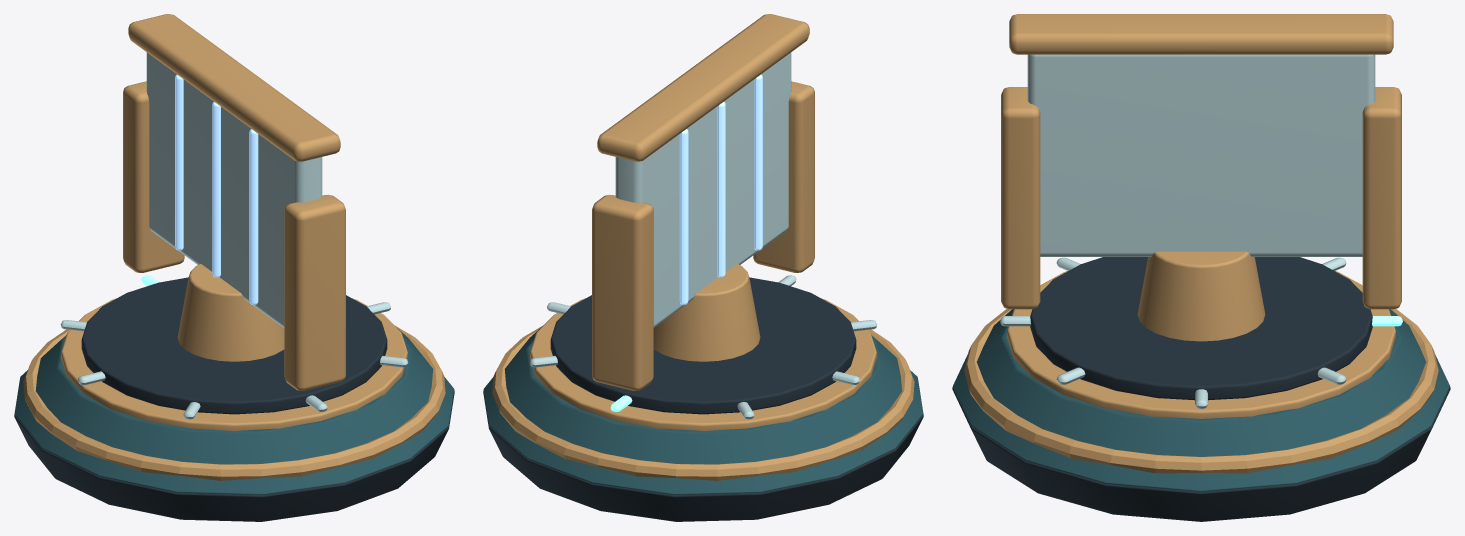
The model's file is splitter.glb.
The picture shows the model from 3 angles, left to right: view 1: azimuth 30°, elevation 25°; view 2: azimuth 150°, elevation 25°; view 3: azimuth 270°, elevation 25°; orthographic projection. The views are drawn at different scales.
Visible parts, largest first — view 1: splitter; view 2: splitter; view 3: splitter.
Part boxes in pixels (left/top/right/bottom): splitter: left=14, top=14, right=454, bottom=521; splitter: left=483, top=14, right=923, bottom=521; splitter: left=952, top=14, right=1450, bottom=521.
Bounding box in the file's own units: 1.08 × 0.956 × 1.08.
